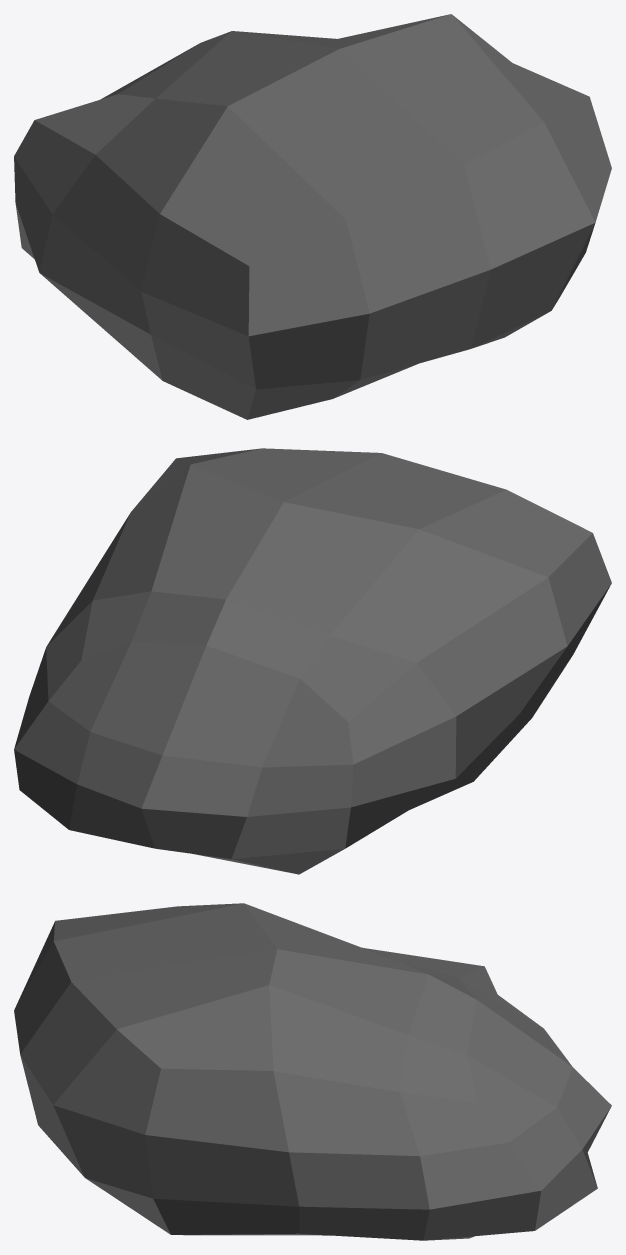
File: Stone1_gray.fbx
The picture shows the model from 3 angles, top to bottom: view 1: azimuth 30°, elevation 25°; view 2: azimuth 150°, elevation 25°; view 3: azimuth 270°, elevation 25°; orthographic projection. The views are drawn at different scales.
Visible parts, largest first — view 1: Stone1_gray; view 2: Stone1_gray; view 3: Stone1_gray.
Boxes of the visible parts, box(x1,y1,x2,y2) form: Stone1_gray: box(14, 14, 611, 419); Stone1_gray: box(14, 448, 611, 874); Stone1_gray: box(14, 903, 611, 1240).
Size of the model in its own units: 310 by 214 by 392.
